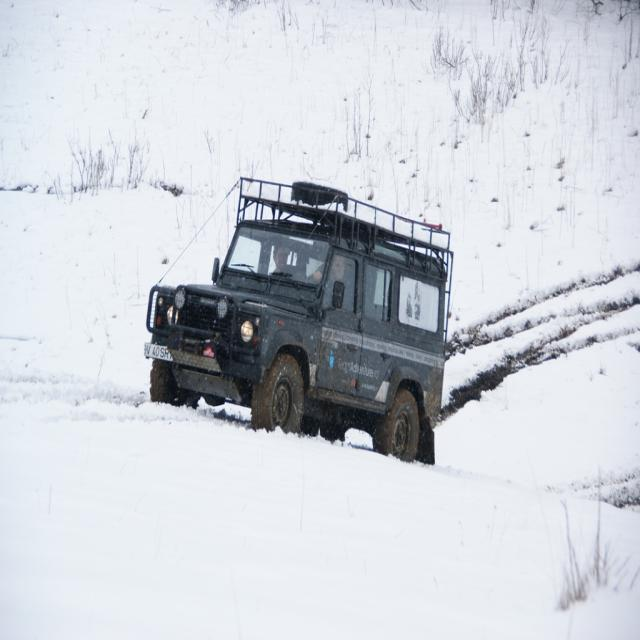car: (141, 171, 462, 443)
